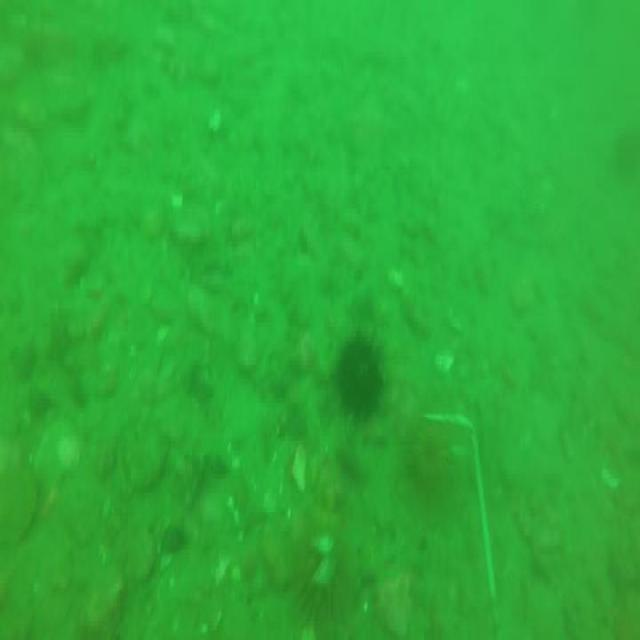echinus: (297, 520, 355, 627), (404, 400, 458, 510), (338, 326, 388, 420)
scallop: (32, 417, 82, 503), (290, 446, 308, 490)
